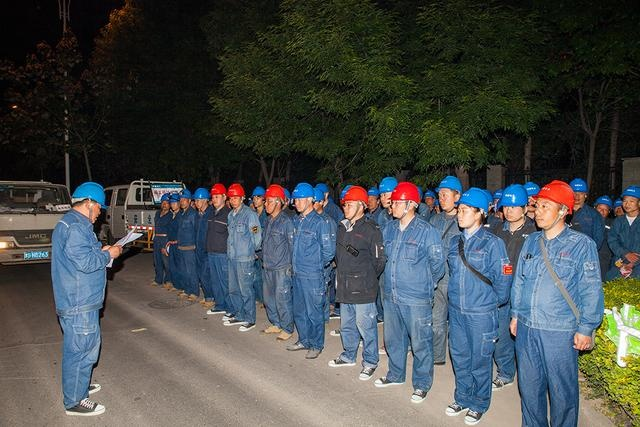blue: (70, 180, 107, 223), (456, 190, 489, 230), (498, 183, 529, 223), (437, 175, 462, 212), (291, 182, 315, 213), (377, 175, 397, 207), (620, 184, 640, 216), (570, 176, 587, 206), (191, 186, 209, 210), (524, 180, 538, 210), (594, 194, 610, 217), (311, 188, 325, 212), (251, 185, 265, 208), (366, 188, 379, 211), (168, 192, 180, 212), (159, 191, 171, 210), (178, 190, 190, 209), (423, 189, 435, 205)
red: (533, 181, 575, 228), (389, 182, 421, 219), (340, 187, 368, 219), (261, 182, 285, 216), (207, 181, 228, 209), (227, 182, 246, 208)
